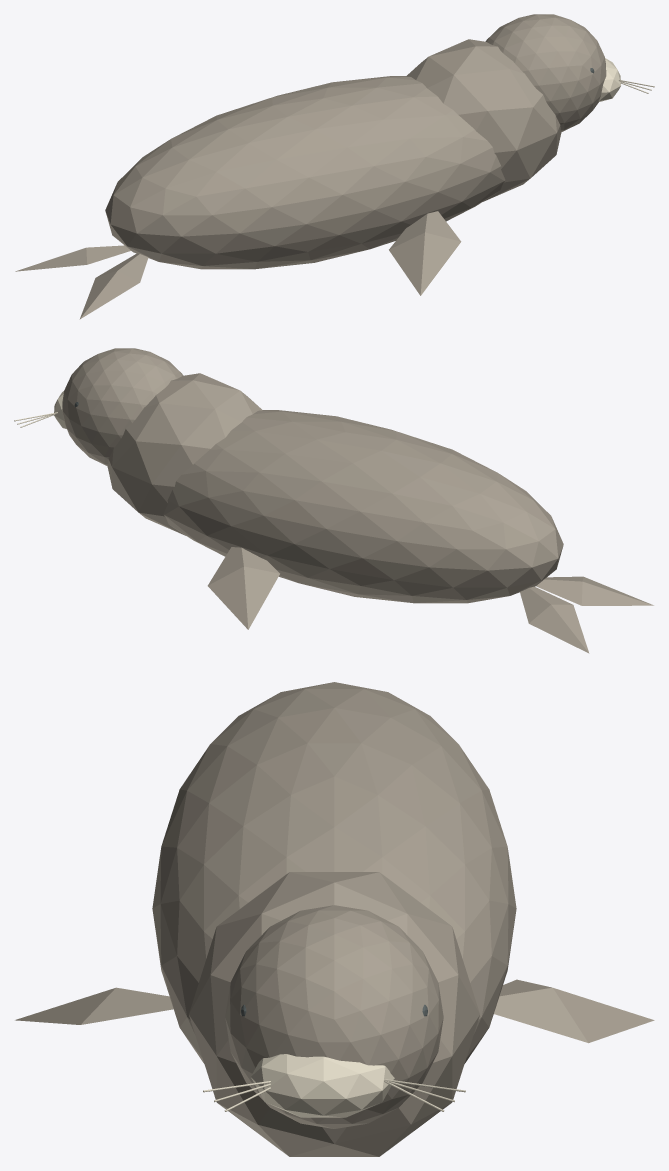
3 renders of one model, top to bottom at view 1: azimuth 30°, elevation 25°; view 2: azimuth 150°, elevation 25°; view 3: azimuth 270°, elevation 25°, orthographic. The views are drawn at different scales.
Parts seen in each view (by area): view 1: CE-020 Resting coastal seal batched; view 2: CE-020 Resting coastal seal batched; view 3: CE-020 Resting coastal seal batched.
Part boxes in pixels (bbox=[...]): CE-020 Resting coastal seal batched: bbox=[15, 14, 654, 319]; CE-020 Resting coastal seal batched: bbox=[14, 348, 653, 653]; CE-020 Resting coastal seal batched: bbox=[15, 682, 654, 1156].
Bounding box in the file's own units: 1.61 × 0.47 × 0.88.
